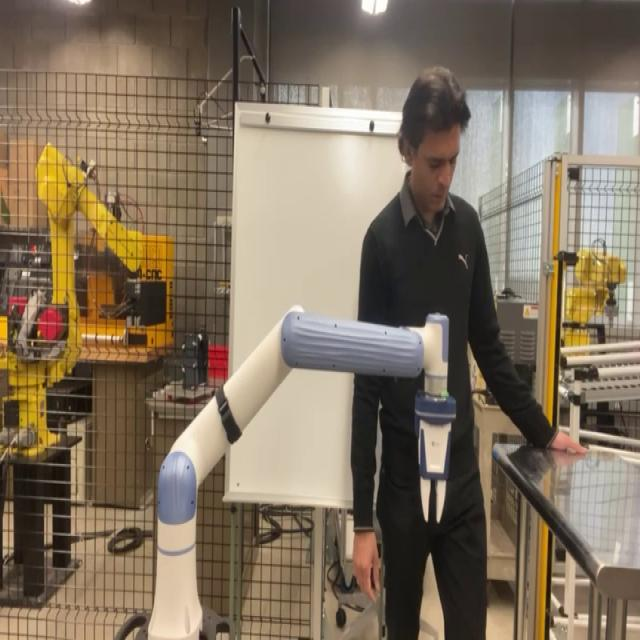human: (349, 64, 586, 637)
